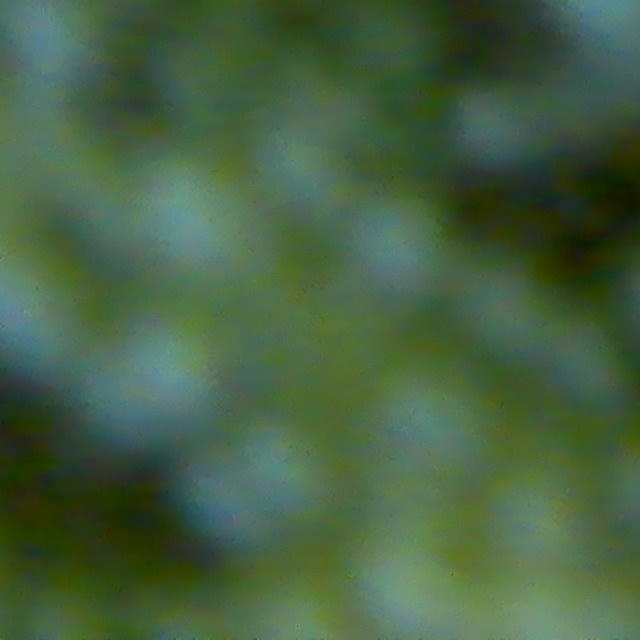SeaGrape: (69, 302, 222, 426), (340, 503, 481, 627), (375, 345, 493, 480), (344, 180, 463, 303), (146, 161, 258, 285), (0, 0, 105, 109), (0, 233, 81, 368), (446, 75, 552, 176), (187, 438, 269, 544), (369, 197, 429, 291), (540, 326, 605, 402)
